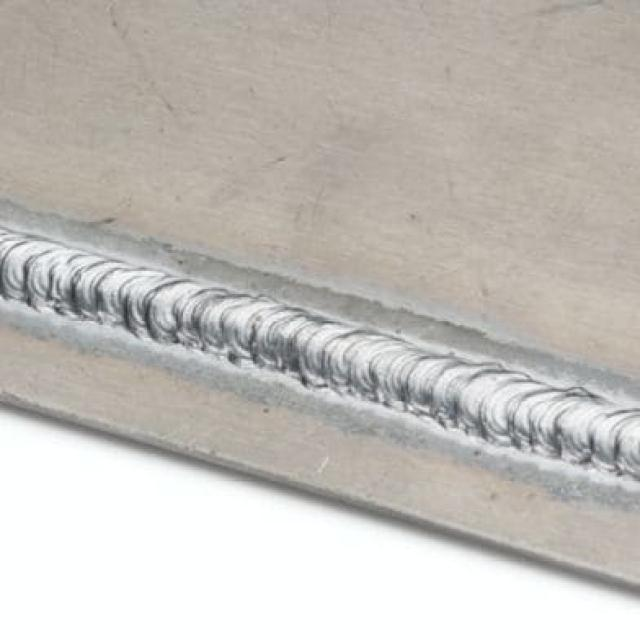Dry Waste: (1, 228, 640, 488)
